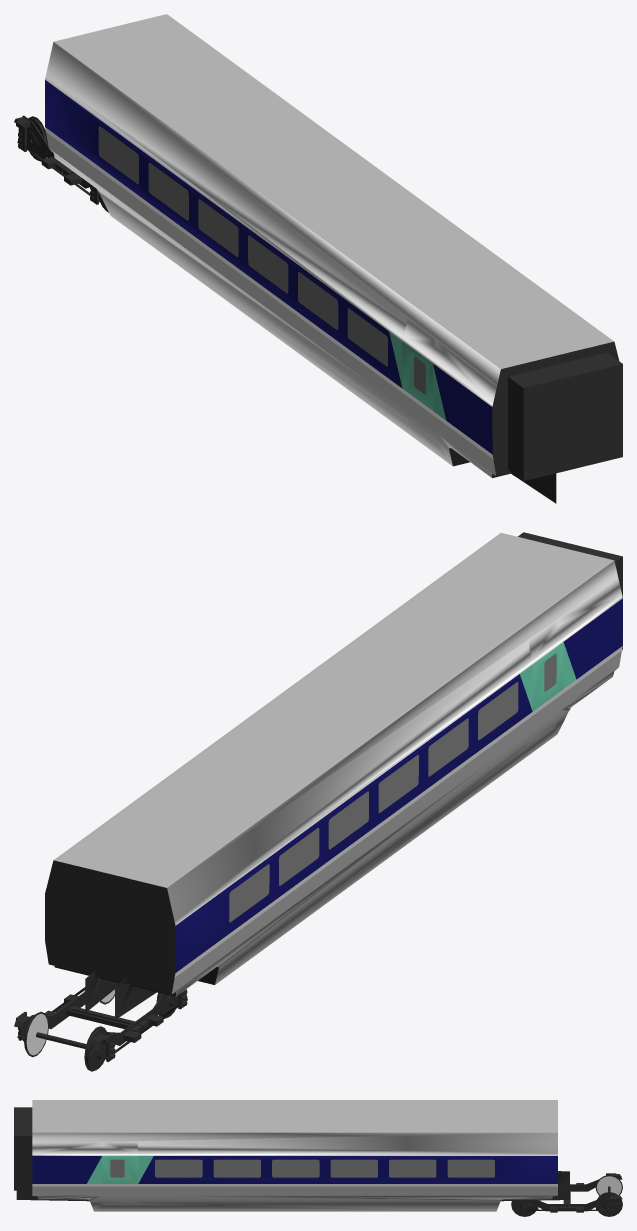
Rendered from TGVReseau_car3.gltf.
The picture shows the model from 3 angles, top to bottom: view 1: azimuth 30°, elevation 25°; view 2: azimuth 150°, elevation 25°; view 3: azimuth 270°, elevation 25°; orthographic projection. The views are drawn at different scales.
Parts seen in each view (by area): view 1: Group#9, Group#9.001, boogie.012; view 2: Group#9, Group#9.001, boogie.012, boogie.013; view 3: Group#9.001, Group#9, boogie.013, boogie.012.
Part boxes in pixels (bbox=[...]): Group#9: bbox=[45, 28, 622, 503]; Group#9.001: bbox=[110, 14, 619, 481]; boogie.012: bbox=[14, 115, 108, 212]; Group#9: bbox=[110, 532, 622, 1019]; Group#9.001: bbox=[45, 533, 622, 1012]; boogie.012: bbox=[36, 989, 187, 1071]; boogie.013: bbox=[14, 987, 135, 1057]; Group#9.001: bbox=[14, 1107, 569, 1211]; Group#9: bbox=[14, 1100, 569, 1190]; boogie.013: bbox=[511, 1187, 622, 1216]; boogie.012: bbox=[563, 1173, 622, 1203].
Size of the model in its own units: 3.15 by 3.62 by 21.68.
